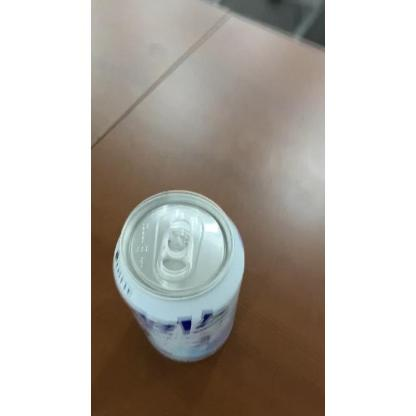Can: (110, 187, 249, 367)
